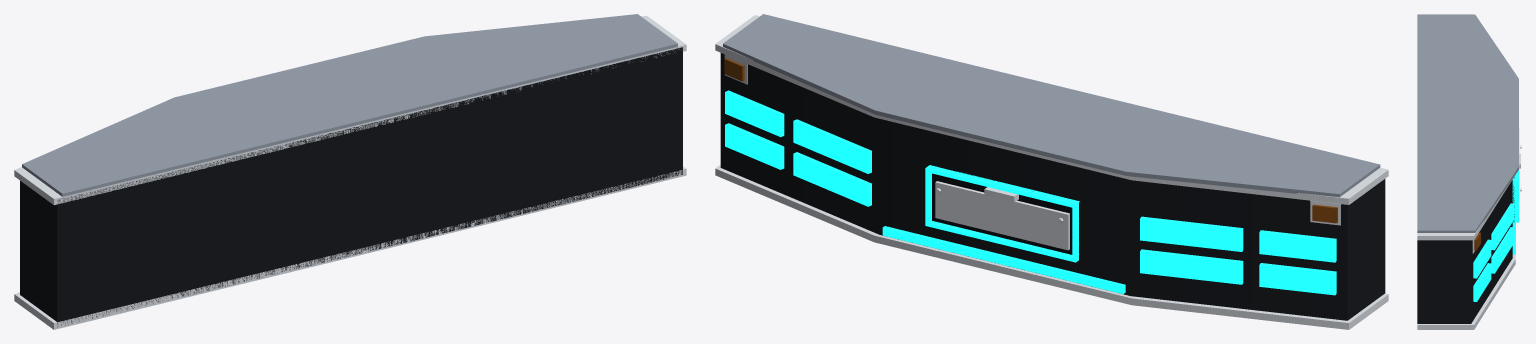
The model's file is fb_deck_neon.glb.
3 renders of one model, left to right at view 1: azimuth 30°, elevation 25°; view 2: azimuth 150°, elevation 25°; view 3: azimuth 270°, elevation 25°, orthographic. The views are drawn at different scales.
Visible parts, largest first — view 1: fb_deck_neon_MID_deco_body, fb_deck_neon_TOP_deco_checker, fb_deck_neon_TOP_deco_body, fb_deck_neon_BOT_deco_body, fb_deck_neon_BOT_chrome, fb_deck_neon_TOP_chrome; view 2: fb_deck_neon_TOP_deco_checker, fb_deck_neon_MID_deco_body, fb_deck_neon_TOP_deco_body, fb_deck_neon_MID_deco_neon, fb_deck_neon_BOT_deco_body, fb_deck_neon_BOT_chrome, fb_deck_neon_CEN_deco_plate, fb_deck_neon_TOP_chrome, fb_deck_neon_CEN_deco_neon, fb_deck_neon_BOT_deco_neon, fb_deck_neon_CEN_deco_trim, fb_deck_neon_TOP_deco_signal; view 3: fb_deck_neon_TOP_deco_checker, fb_deck_neon_MID_deco_body, fb_deck_neon_MID_deco_neon, fb_deck_neon_TOP_deco_body, fb_deck_neon_BOT_deco_body, fb_deck_neon_BOT_chrome, fb_deck_neon_TOP_chrome, fb_deck_neon_CEN_deco_neon, fb_deck_neon_BOT_deco_neon, fb_deck_neon_TOP_deco_signal.
Part boxes in pixels (bbox=[...]): fb_deck_neon_MID_deco_body: bbox=[20, 82, 682, 302]; fb_deck_neon_TOP_deco_checker: bbox=[22, 14, 677, 196]; fb_deck_neon_TOP_deco_body: bbox=[20, 47, 682, 234]; fb_deck_neon_BOT_deco_body: bbox=[20, 150, 682, 327]; fb_deck_neon_BOT_chrome: bbox=[14, 166, 686, 329]; fb_deck_neon_TOP_chrome: bbox=[14, 15, 686, 205]; fb_deck_neon_TOP_deco_checker: bbox=[723, 14, 1380, 197]; fb_deck_neon_MID_deco_body: bbox=[720, 80, 1385, 301]; fb_deck_neon_TOP_deco_body: bbox=[720, 53, 1385, 232]; fb_deck_neon_MID_deco_neon: bbox=[725, 90, 1336, 295]; fb_deck_neon_BOT_deco_body: bbox=[720, 148, 1385, 320]; fb_deck_neon_BOT_chrome: bbox=[715, 165, 1388, 329]; fb_deck_neon_CEN_deco_plate: bbox=[935, 181, 1069, 250]; fb_deck_neon_TOP_chrome: bbox=[715, 15, 1388, 225]; fb_deck_neon_CEN_deco_neon: bbox=[925, 165, 1079, 262]; fb_deck_neon_BOT_deco_neon: bbox=[882, 226, 1125, 293]; fb_deck_neon_CEN_deco_trim: bbox=[931, 165, 1080, 259]; fb_deck_neon_TOP_deco_signal: bbox=[724, 58, 1337, 223]; fb_deck_neon_TOP_deco_checker: bbox=[1417, 14, 1518, 232]; fb_deck_neon_MID_deco_body: bbox=[1417, 196, 1512, 309]; fb_deck_neon_MID_deco_neon: bbox=[1473, 203, 1514, 301]; fb_deck_neon_TOP_deco_body: bbox=[1417, 180, 1512, 260]; fb_deck_neon_BOT_deco_body: bbox=[1417, 246, 1512, 323]; fb_deck_neon_BOT_chrome: bbox=[1417, 254, 1515, 329]; fb_deck_neon_TOP_chrome: bbox=[1417, 14, 1513, 253]; fb_deck_neon_CEN_deco_neon: bbox=[1512, 129, 1519, 222]; fb_deck_neon_BOT_deco_neon: bbox=[1512, 222, 1515, 254]; fb_deck_neon_TOP_deco_signal: bbox=[1474, 232, 1480, 250].
Size of the model in its own units: 2.53 by 0.512 by 0.503.
